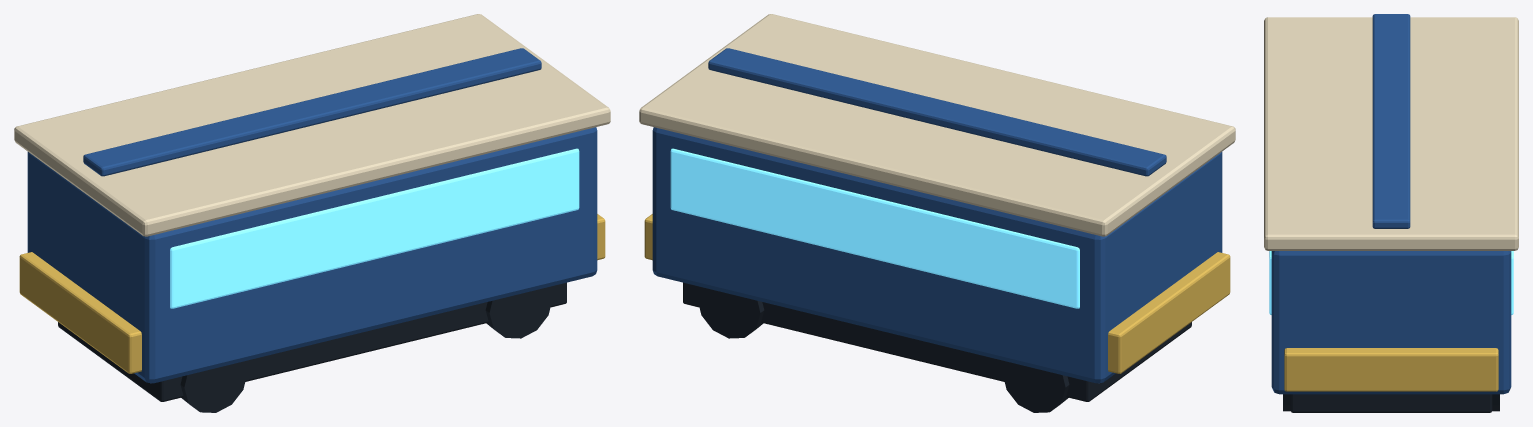
Rendered from SM_NerobergbahnWagen.glb.
3 views of the same model, side by side, from view 1: azimuth 30°, elevation 25°; view 2: azimuth 150°, elevation 25°; view 3: azimuth 270°, elevation 25° (orthographic). The views are drawn at different scales.
Visible parts, largest first — view 1: SM_NerobergbahnWagen; view 2: SM_NerobergbahnWagen; view 3: SM_NerobergbahnWagen.
Part boxes in pixels (bbox=[...]): SM_NerobergbahnWagen: bbox=[14, 14, 610, 412]; SM_NerobergbahnWagen: bbox=[639, 14, 1235, 412]; SM_NerobergbahnWagen: bbox=[1264, 14, 1518, 412].
Size of what is drawn, in the model's own units: 4.22 by 1.92 by 2.02.
